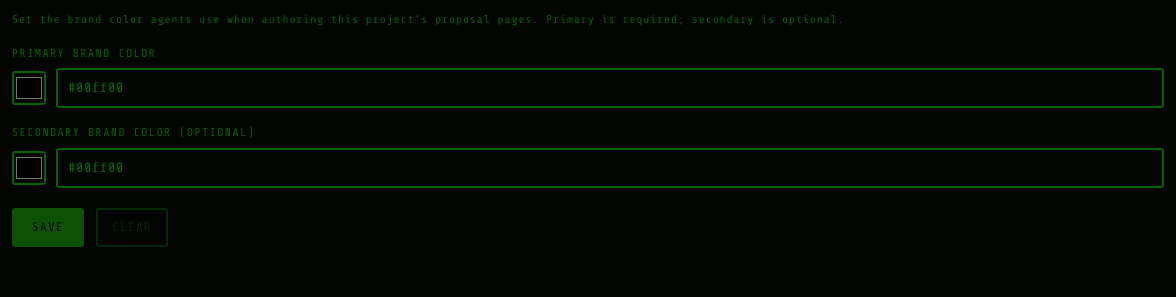
Test: StyleGuideEditor › should show an inline error and keep Save disabled for invalid primary hex
This screenshot has width=1176, height=297.
Type "#zzz" into the field labelled "Primary brand color".
click(610, 88); type("#zzz")  # box [56, 68, 1164, 108]
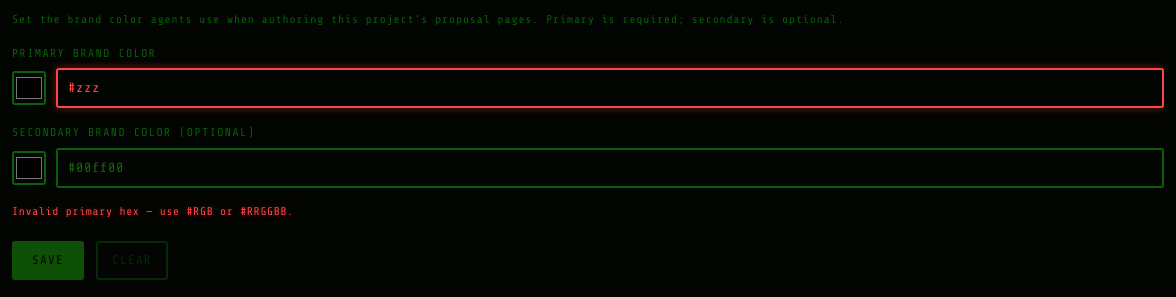
Expected: the button "Save" is disabled, [12, 241, 84, 280]
Expected: the message shows "Invalid", [12, 205, 294, 218]
